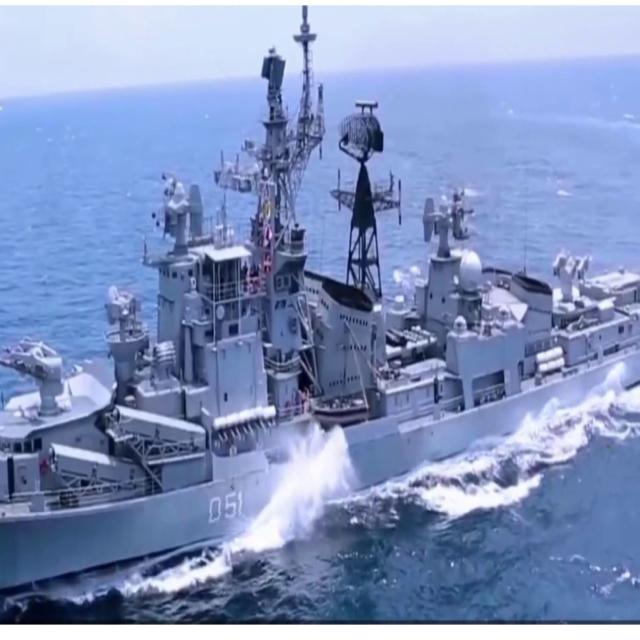OCR: (194, 482, 245, 533)
